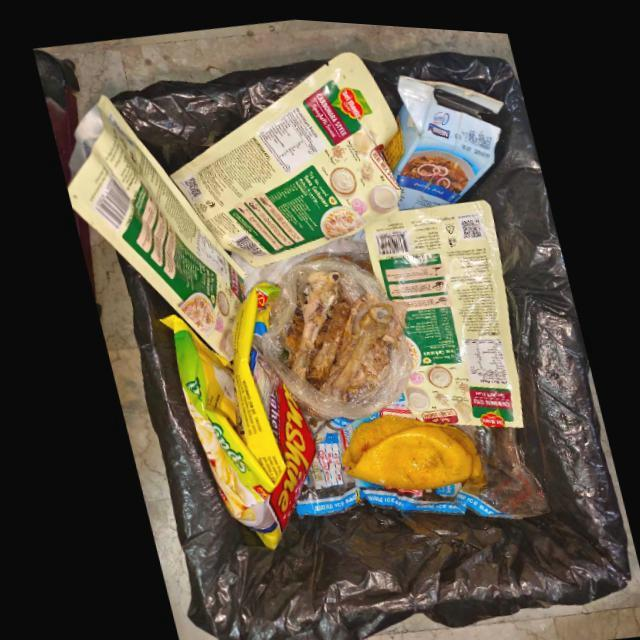food_wrapper: (165, 48, 398, 265), (63, 91, 245, 357), (154, 282, 311, 547), (361, 194, 518, 422)
left_over_food: (275, 264, 361, 385), (313, 292, 406, 402)
